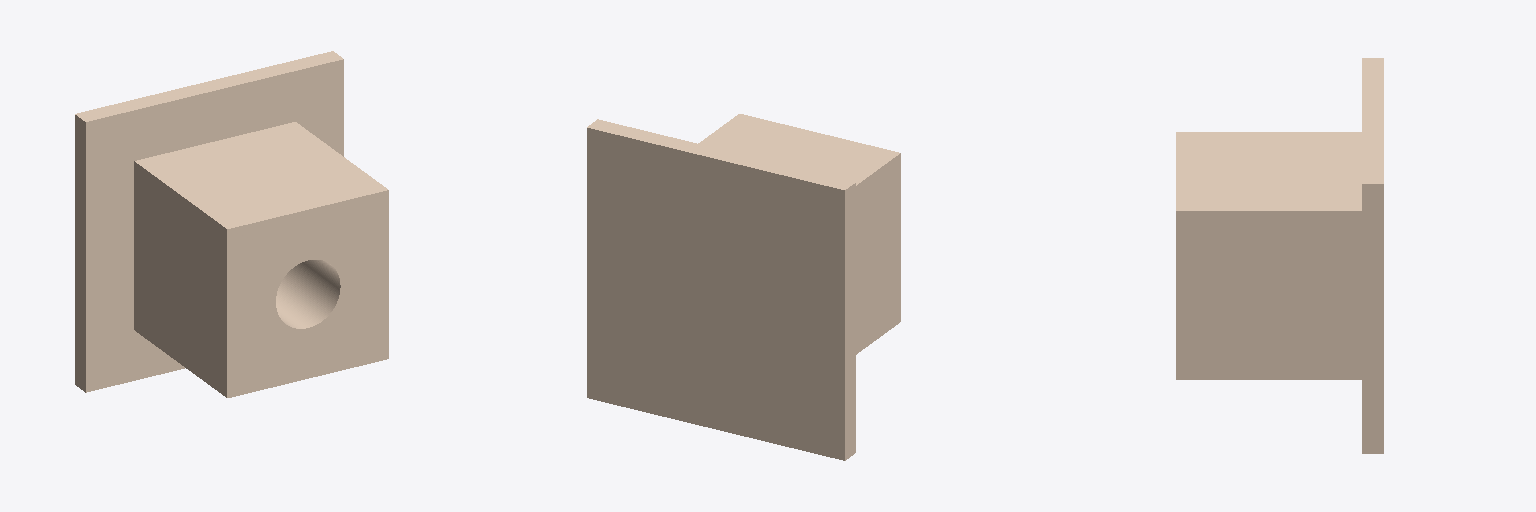
The model's file is industreal_tray_pick_round_peg_8mm.obj.
3 views of the same model, side by side, from view 1: azimuth 30°, elevation 25°; view 2: azimuth 150°, elevation 25°; view 3: azimuth 270°, elevation 25° (orthographic).
Parts seen in each view (by area): view 1: industreal_tray_pick_round_peg_8mm; view 2: industreal_tray_pick_round_peg_8mm; view 3: industreal_tray_pick_round_peg_8mm.
Part boxes in pixels (bbox=[...]): industreal_tray_pick_round_peg_8mm: bbox=[75, 51, 388, 397]; industreal_tray_pick_round_peg_8mm: bbox=[587, 114, 900, 460]; industreal_tray_pick_round_peg_8mm: bbox=[1176, 58, 1383, 453].
Size of the model in its own units: 0.04 by 0.04 by 0.028.